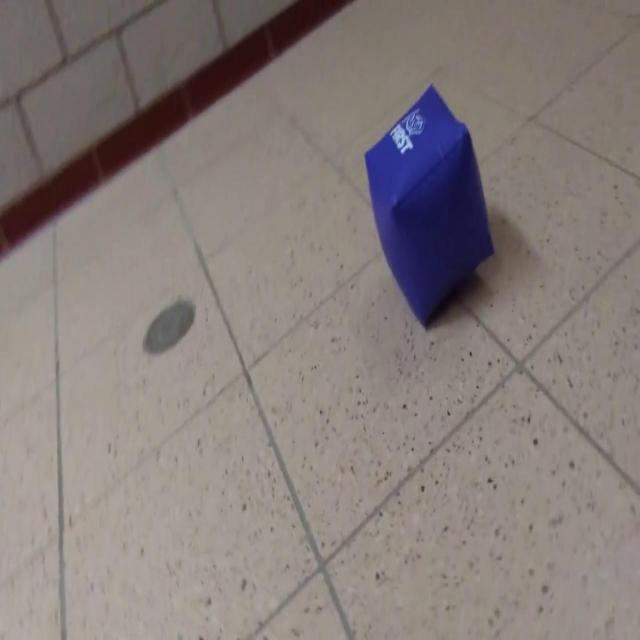frc_cube: (362, 82, 495, 325)
